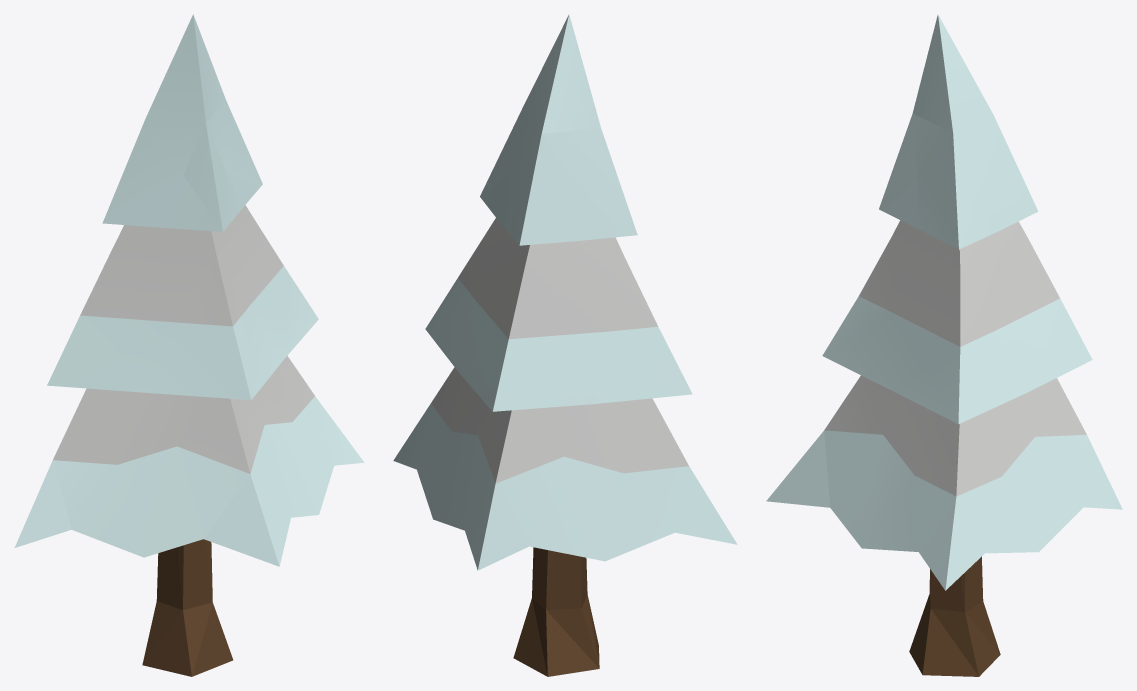
File: nature_tree-spruce-snow.fbx
3 views of the same model, side by side, from view 1: azimuth 30°, elevation 25°; view 2: azimuth 150°, elevation 25°; view 3: azimuth 270°, elevation 25° (orthographic).
Visible parts, largest first — view 1: nature_tree_spruce_snow; view 2: nature_tree_spruce_snow; view 3: nature_tree_spruce_snow.
Boxes of the visible parts, x1=… form: nature_tree_spruce_snow: x1=14, y1=14, x2=364, y2=676; nature_tree_spruce_snow: x1=393, y1=14, x2=737, y2=676; nature_tree_spruce_snow: x1=766, y1=14, x2=1122, y2=676.
Bounding box in the file's own units: 113 × 200 × 100.
